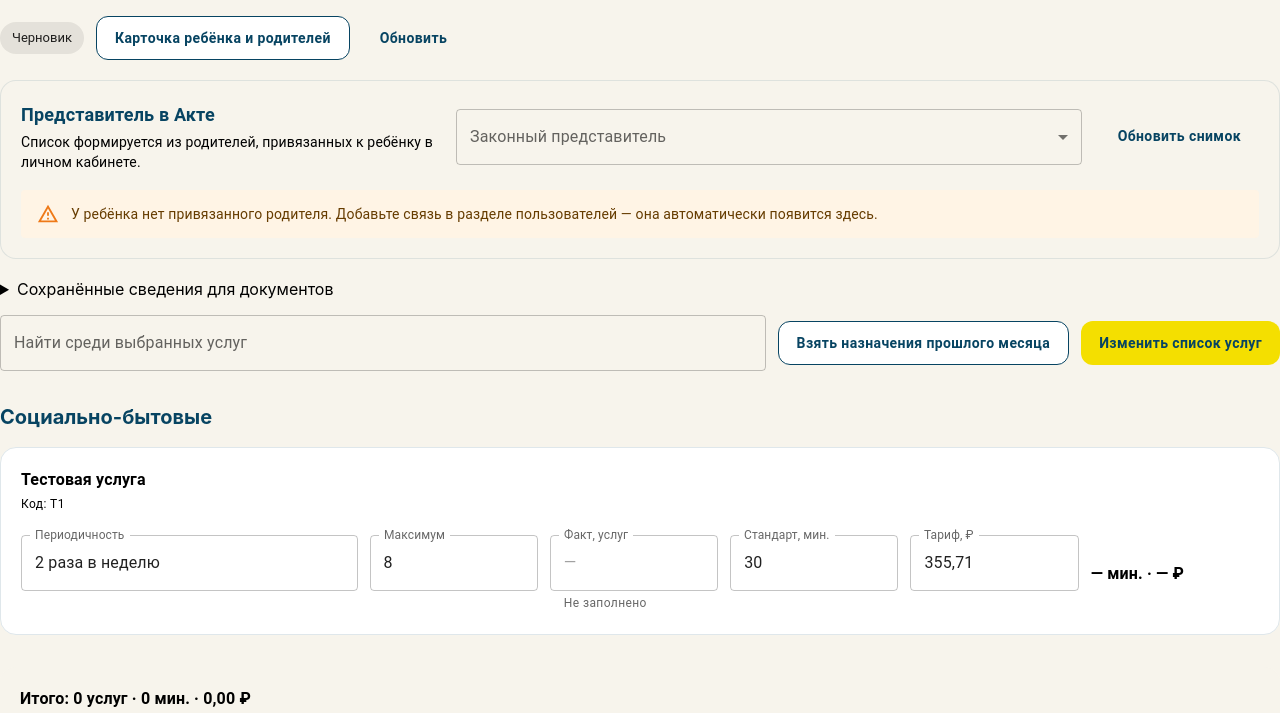
Scenario: copy into existing month requires confirmation and expected revision
Click the button "Взять назначения прошлого месяца" at (923, 343), box [778, 321, 1069, 365]
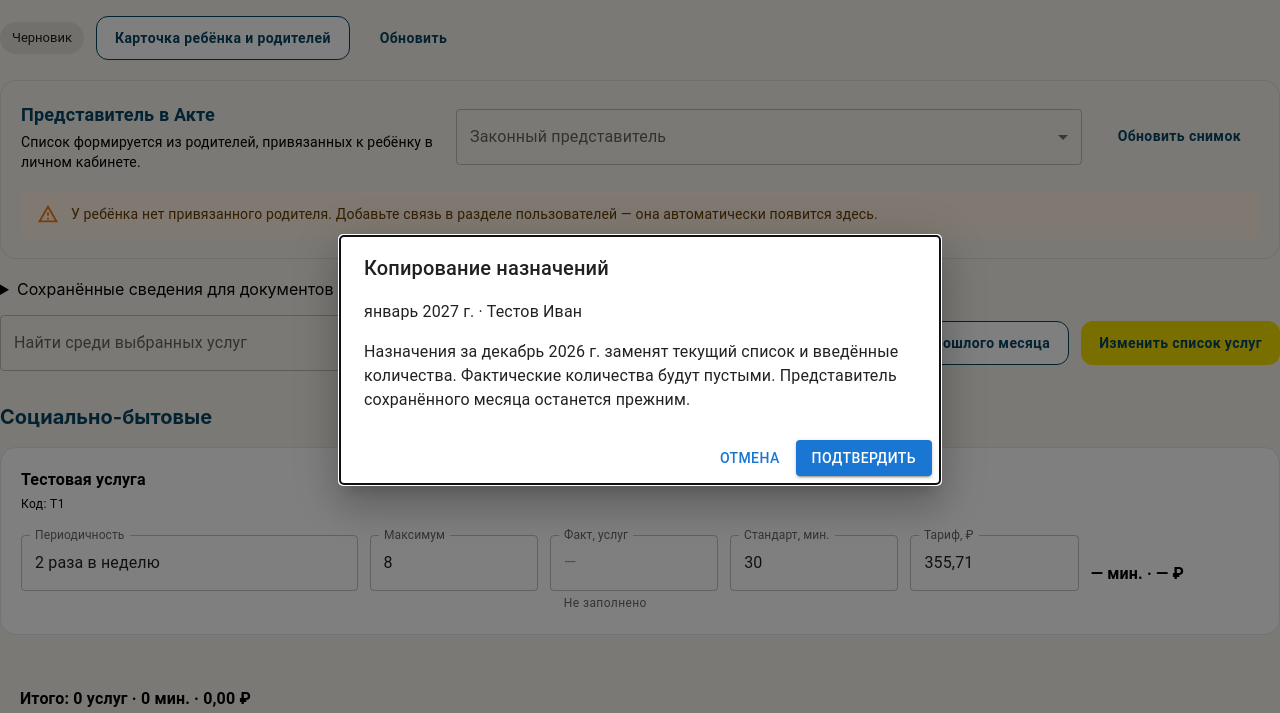
Check: the text "Назначения за декабрь 2026" is shown, box [364, 340, 916, 412]
Click the button "Подтвердить" at (864, 458), box [796, 440, 932, 476]
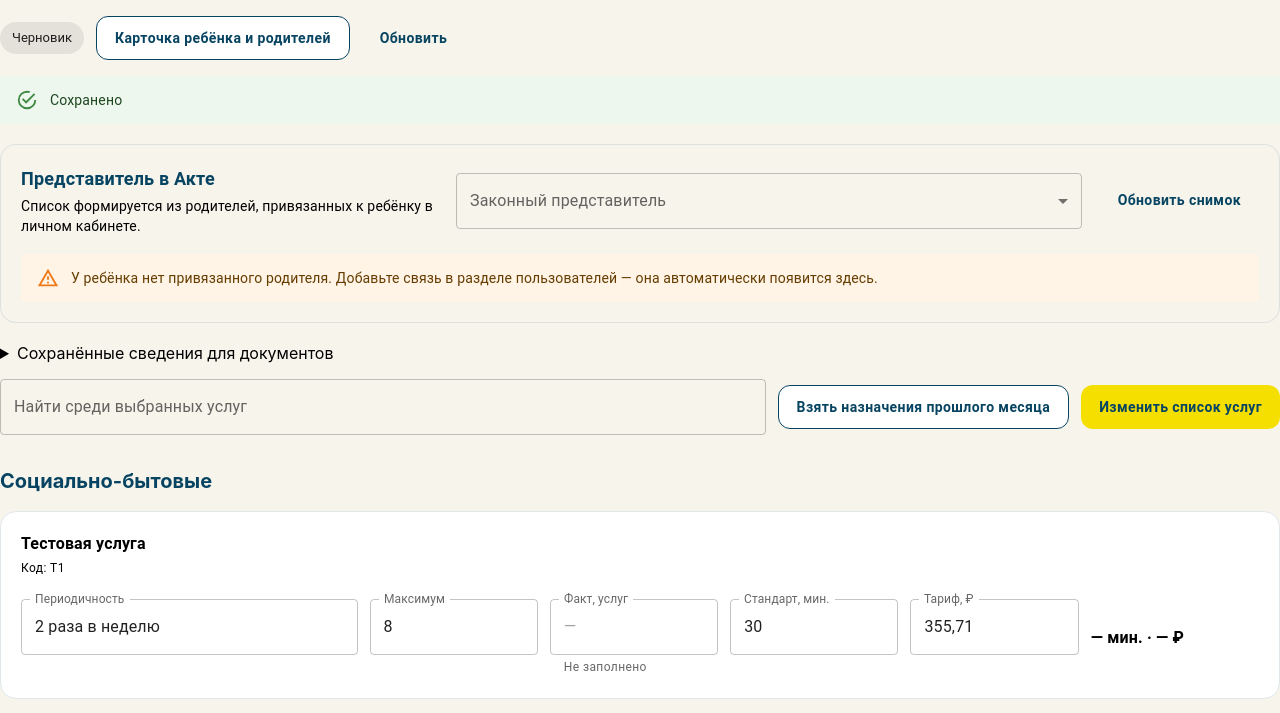
Check: the number field named "Фактически: Тестовая услуга" is empty, box [550, 599, 718, 655]
Check: the text "Сохранено" is shown, box [50, 92, 122, 108]
